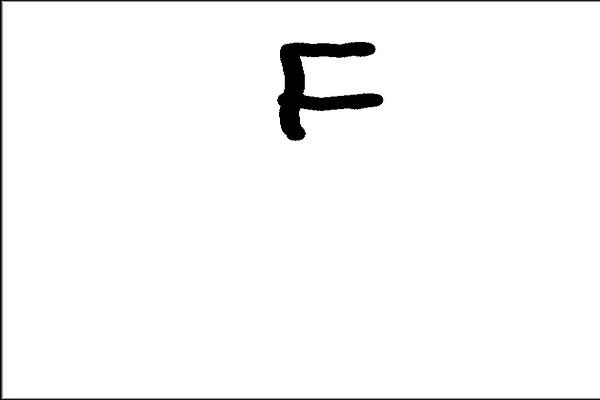F: (270, 37, 386, 145)
